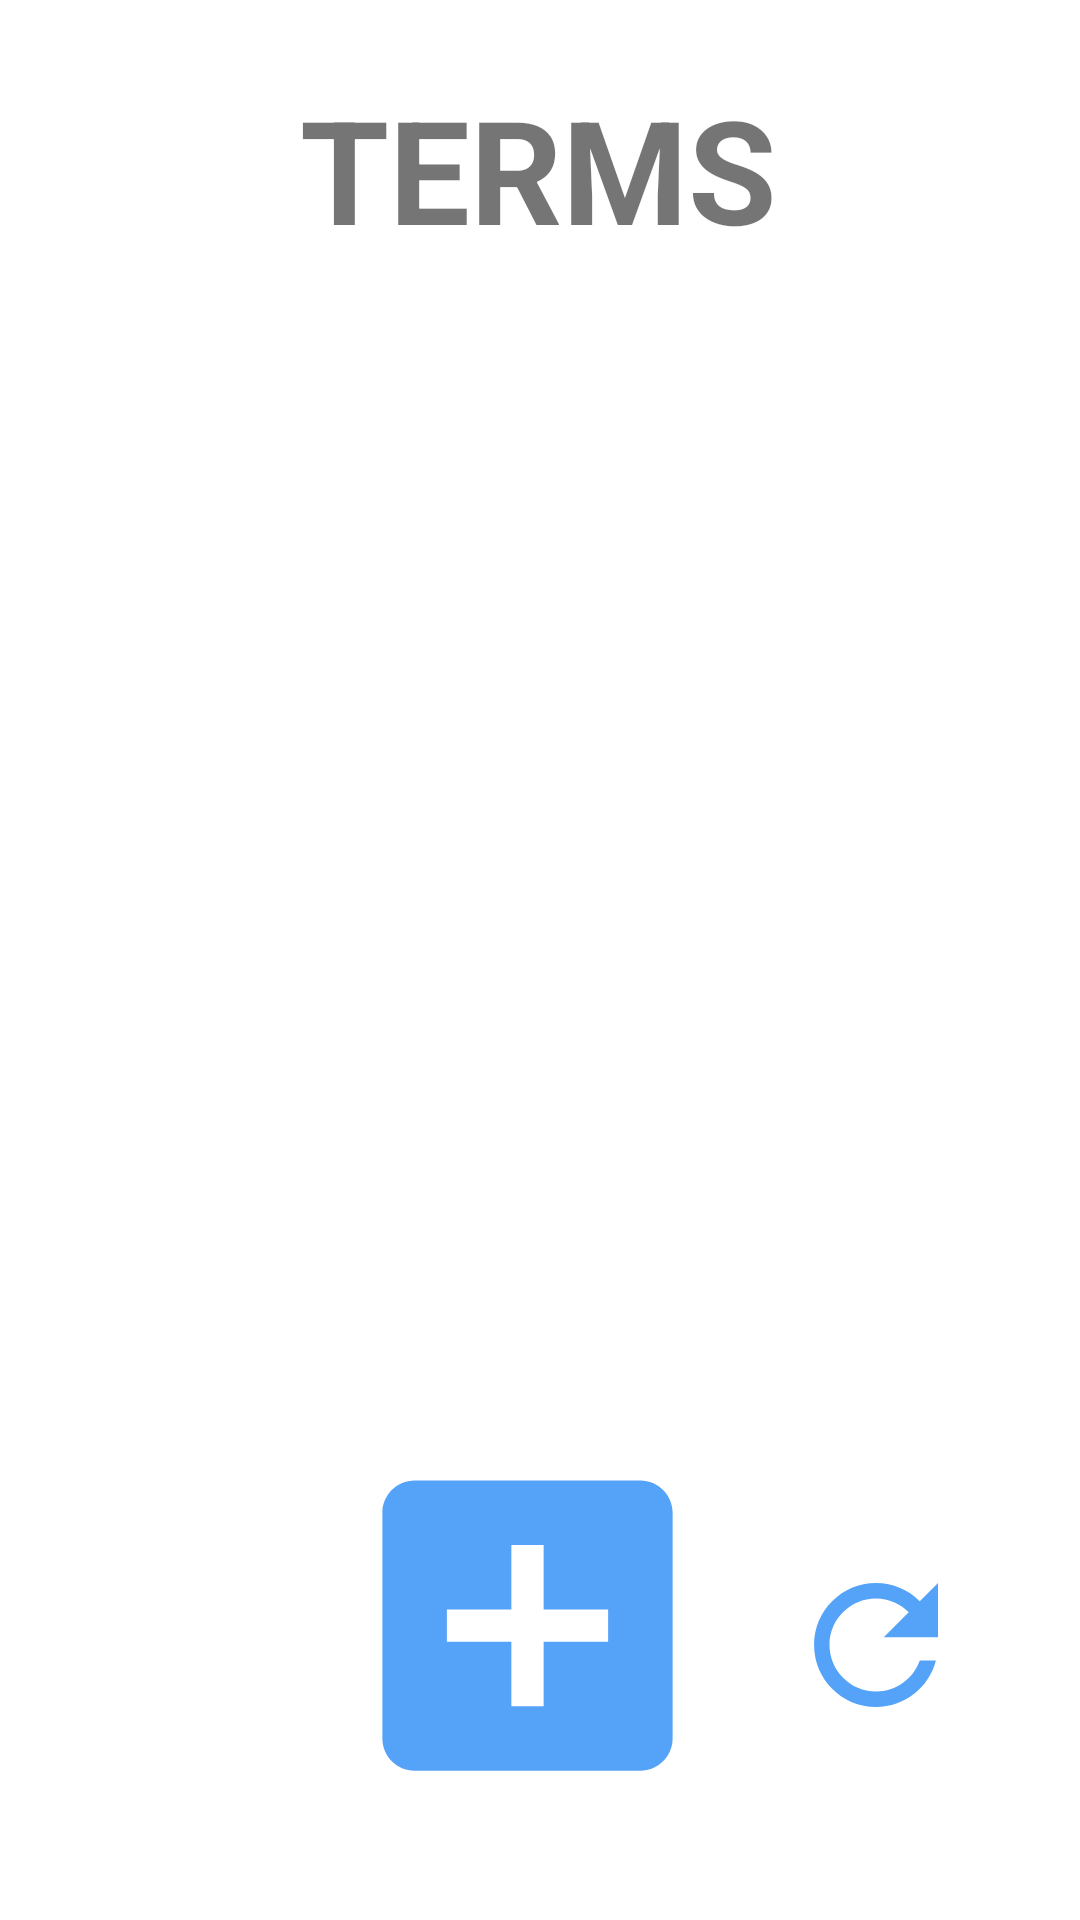

Point at icon controls on the screen. Image size 1080*1920, points as [x,y].
add box: [527,1625]
refresh: [876,1645]
